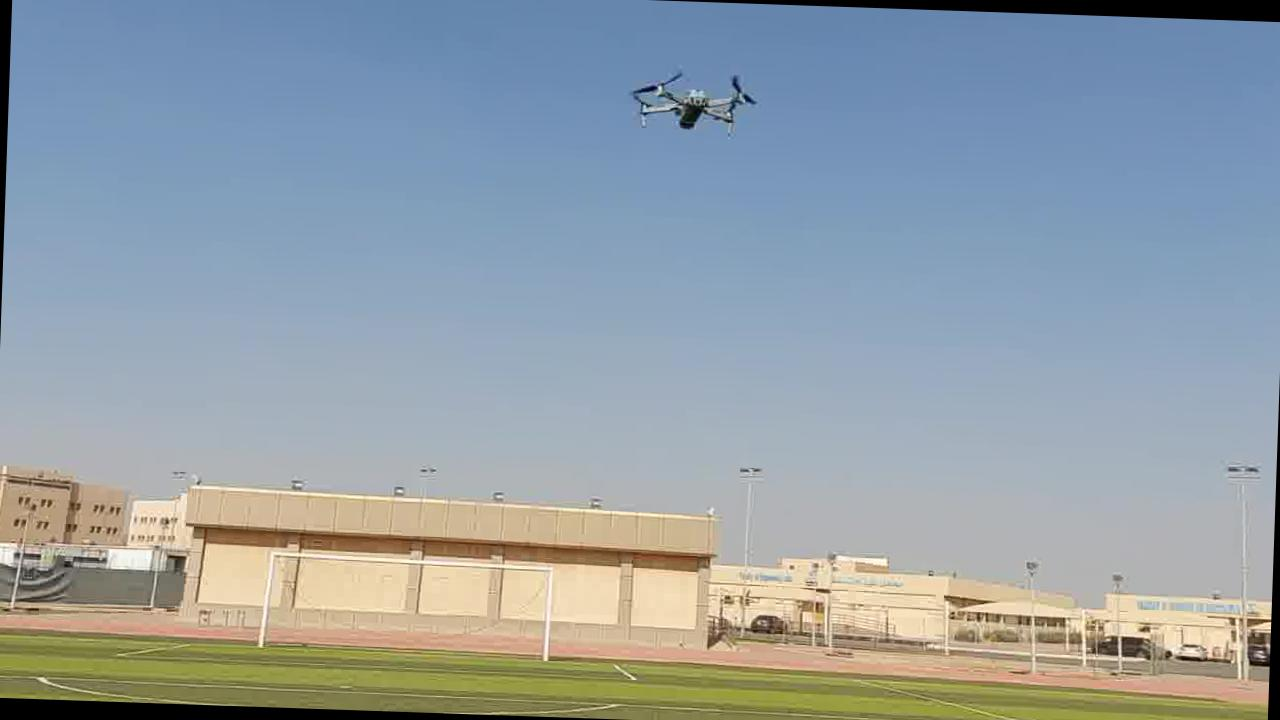drone: (620, 52, 774, 142)
